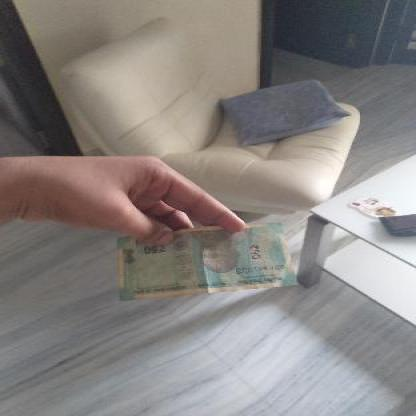New50Front: (123, 224, 293, 290)
